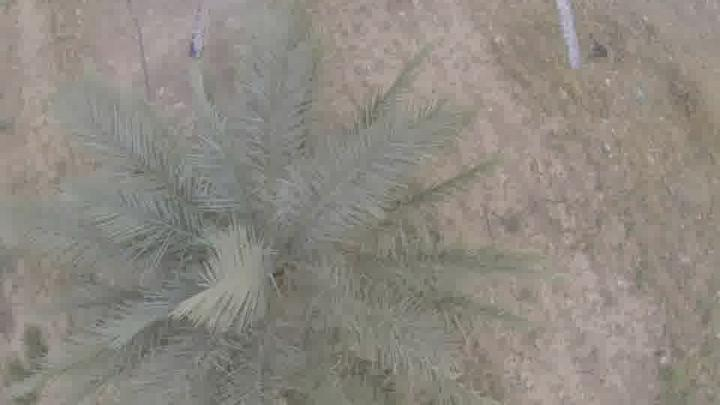Date-Palm-Crown: (141, 132, 409, 402)
